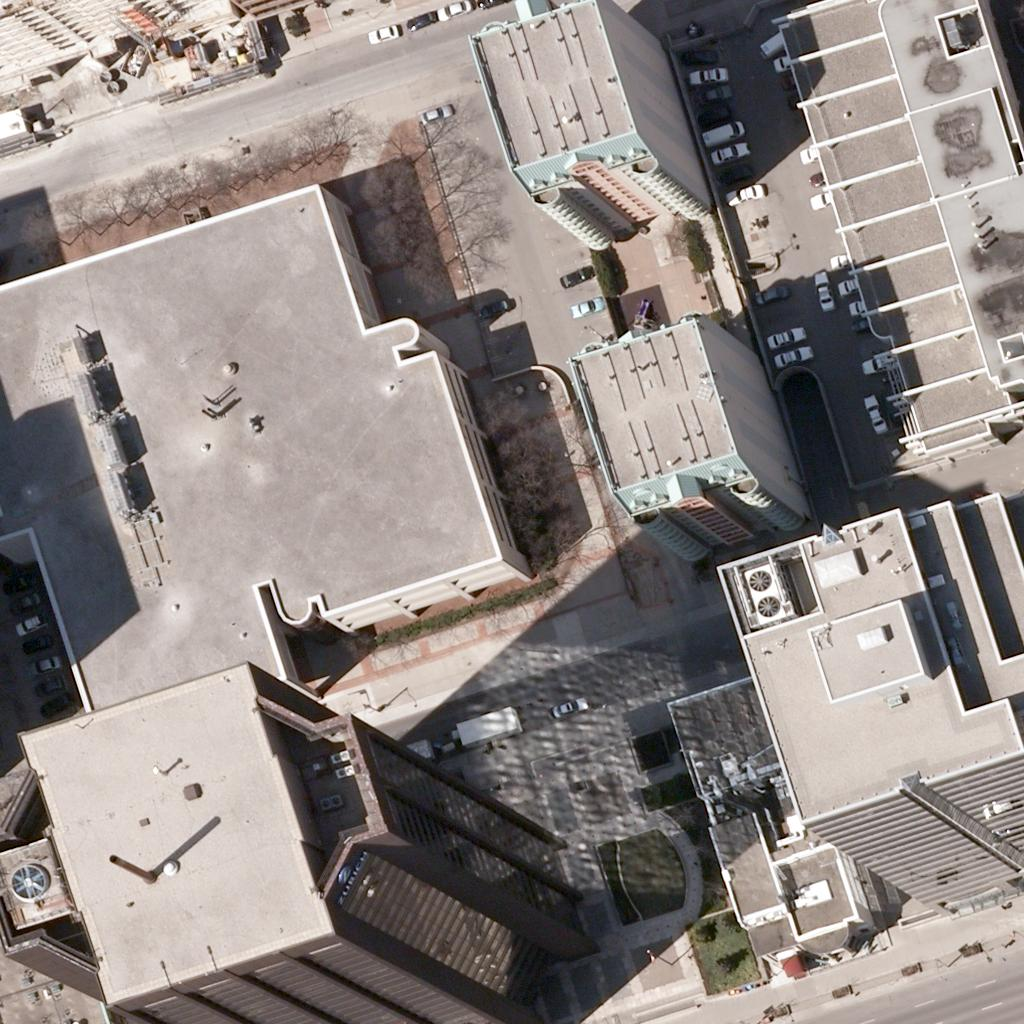car: (679, 38, 713, 72), (767, 43, 801, 77), (691, 56, 725, 90), (774, 62, 808, 96), (692, 77, 726, 111), (779, 81, 813, 115), (417, 96, 451, 130), (697, 96, 731, 130), (703, 113, 737, 147), (707, 133, 741, 167), (795, 135, 829, 169), (715, 155, 749, 189), (804, 160, 838, 194), (728, 174, 762, 208), (808, 180, 842, 214), (825, 242, 859, 276), (556, 259, 590, 293), (834, 265, 868, 299), (806, 274, 840, 308), (755, 276, 789, 310), (567, 287, 601, 321), (841, 287, 875, 321), (477, 290, 511, 324), (848, 305, 882, 339), (764, 319, 798, 353), (772, 338, 806, 372), (862, 345, 896, 379), (856, 396, 890, 430), (5, 584, 39, 618), (13, 604, 47, 638), (20, 625, 54, 659), (27, 647, 61, 681), (31, 668, 65, 702), (39, 687, 73, 721), (548, 689, 582, 723), (0, 565, 33, 599), (437, 0, 471, 24)
